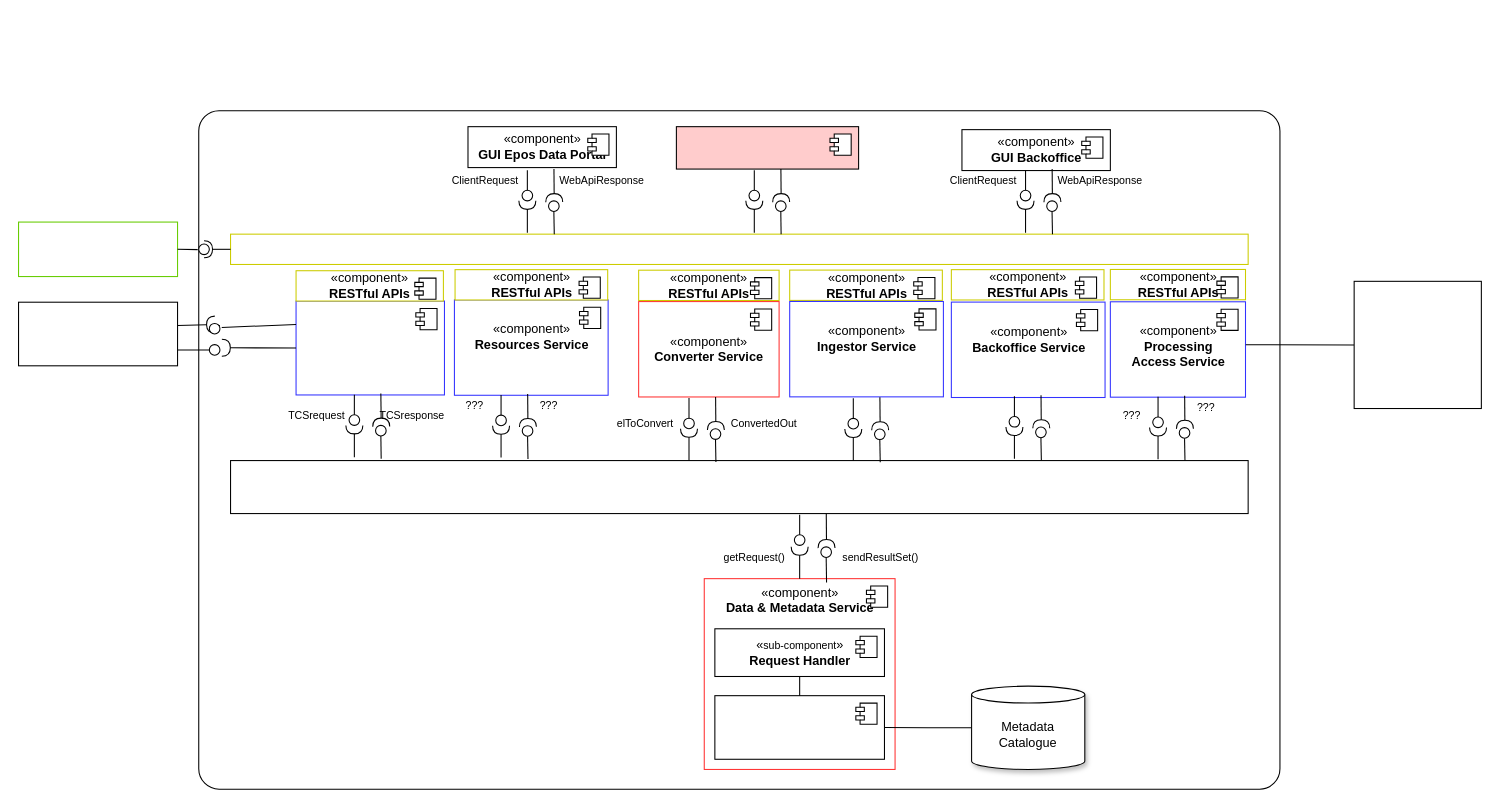
Some shapes in this 1500 by 808 pixel diagram are drawn without their labels. Here are the shapes that lost their labels. From the top down, the centre of each, then its label:
[767,147]: «component» Any other client
[97,249]: AAAI Manager
[738,248]: «component» EPOS API Gateway
[97,333]: TCS Services
[369,347]: «component» External Access Service
[1417,344]: ICS-D Services
[738,487]: «component» Queueing System
[799,727]: « sub-component » DB API
